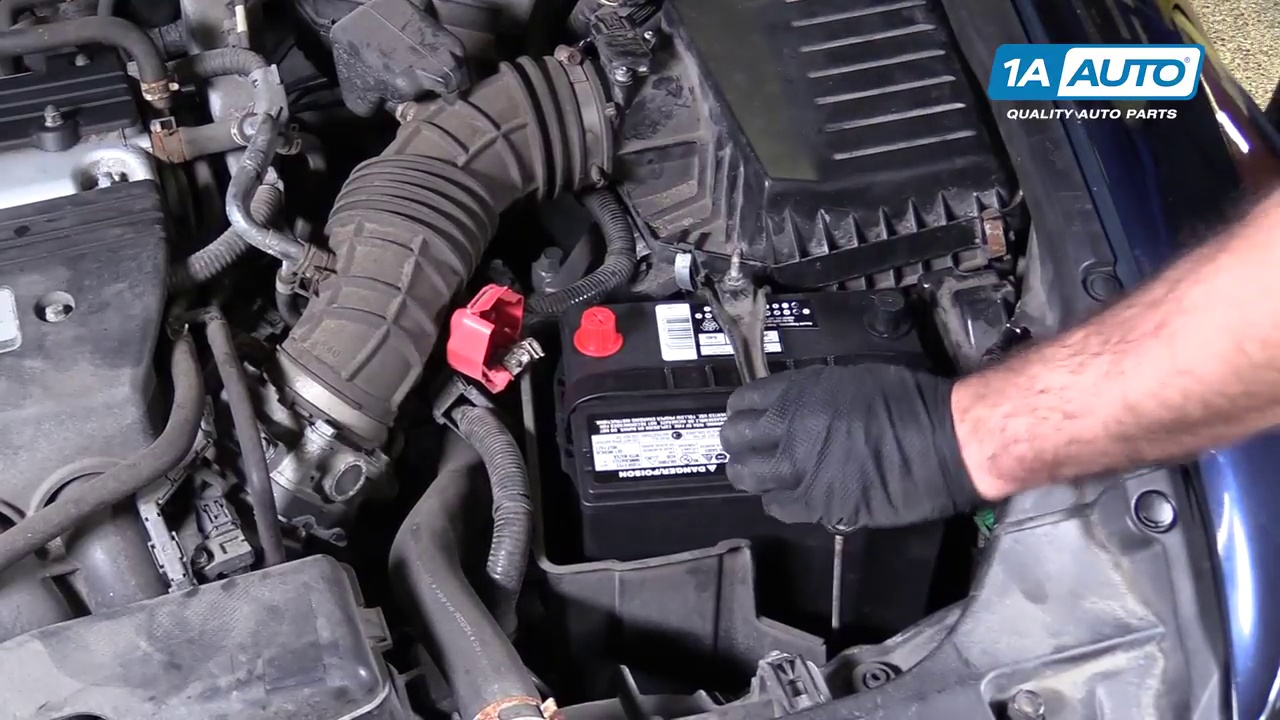battery: (552, 269, 932, 506)
pos_disconnected: (444, 258, 643, 401)
